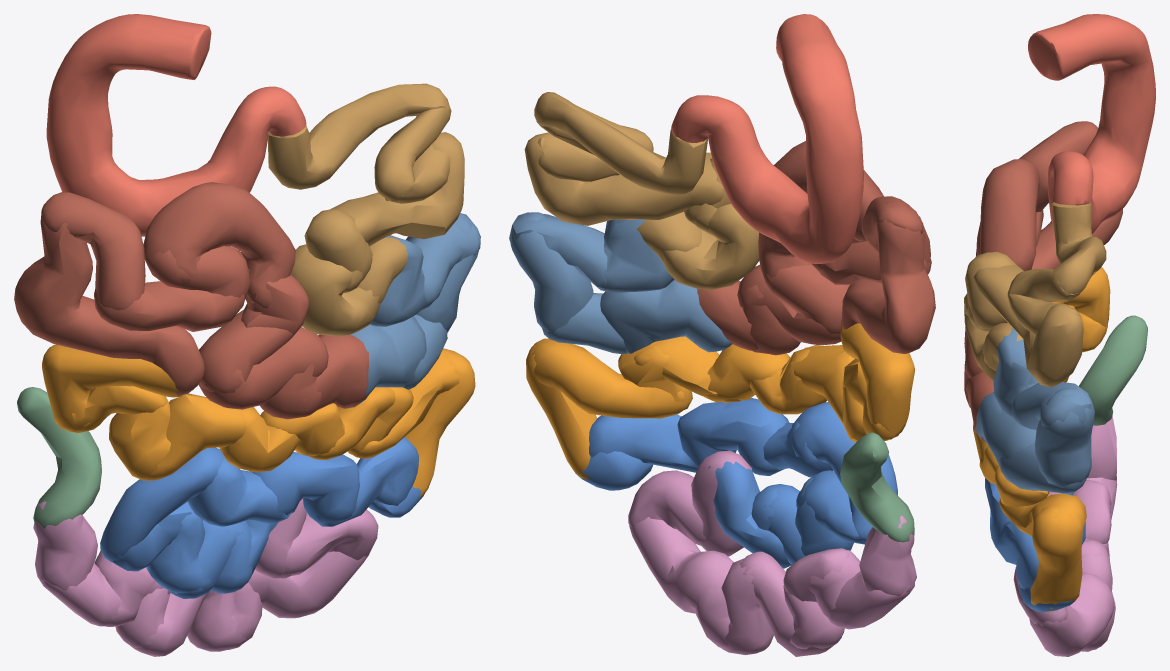
The model's file is small-intestine.glb.
The picture shows the model from 3 angles, left to right: view 1: azimuth 30°, elevation 25°; view 2: azimuth 150°, elevation 25°; view 3: azimuth 270°, elevation 25°; orthographic projection. The views are drawn at different scales.
Visible parts, largest first — view 1: Distal part of jejunum (×10), Proximal part of ileum (×10), Proximal part of jejunum (×7), Middle part of ileum (×10), Distal part of ileum (×10), Duodenum, Middle part of jejunum (×5), Ileocecal junction; view 2: Distal part of ileum (×11), Proximal part of ileum (×10), Middle part of ileum (×10), Distal part of jejunum (×9), Proximal part of jejunum (×6), Duodenum, Middle part of jejunum (×5), Ileocecal junction; view 3: Duodenum, Proximal part of jejunum (×7), Middle part of jejunum (×5), Distal part of jejunum (×5), Proximal part of ileum (×6), Distal part of ileum (×8), Ileocecal junction, Middle part of ileum (×3).
Part boxes in pixels (x1,y1,x2,y2): Distal part of jejunum (×10): [14, 182, 369, 419]; Proximal part of ileum (×10): [42, 344, 475, 496]; Proximal part of jejunum (×7): [267, 83, 464, 336]; Middle part of ileum (×10): [100, 437, 424, 598]; Distal part of ileum (×10): [33, 498, 378, 656]; Duodenum: [46, 14, 306, 236]; Middle part of jejunum (×5): [350, 213, 480, 403]; Ileocecal junction: [17, 387, 101, 528]; Distal part of ileum (×11): [628, 450, 916, 656]; Proximal part of ileum (×10): [526, 320, 914, 479]; Middle part of ileum (×10): [575, 398, 897, 568]; Distal part of jejunum (×9): [694, 141, 935, 355]; Proximal part of jejunum (×6): [524, 92, 759, 290]; Duodenum: [671, 14, 863, 263]; Middle part of jejunum (×5): [509, 212, 732, 354]; Ileocecal junction: [840, 432, 914, 542]; Duodenum: [1028, 14, 1155, 233]; Proximal part of jejunum (×7): [964, 202, 1106, 387]; Middle part of jejunum (×5): [976, 328, 1094, 493]; Distal part of jejunum (×5): [964, 121, 1122, 442]; Proximal part of ileum (×6): [979, 267, 1110, 612]; Distal part of ileum (×8): [1013, 416, 1117, 656]; Ileocecal junction: [1079, 315, 1147, 425]; Middle part of ileum (×3): [985, 478, 1074, 612].
Size of the model in its own units: 1.43 by 2 by 0.5852.
